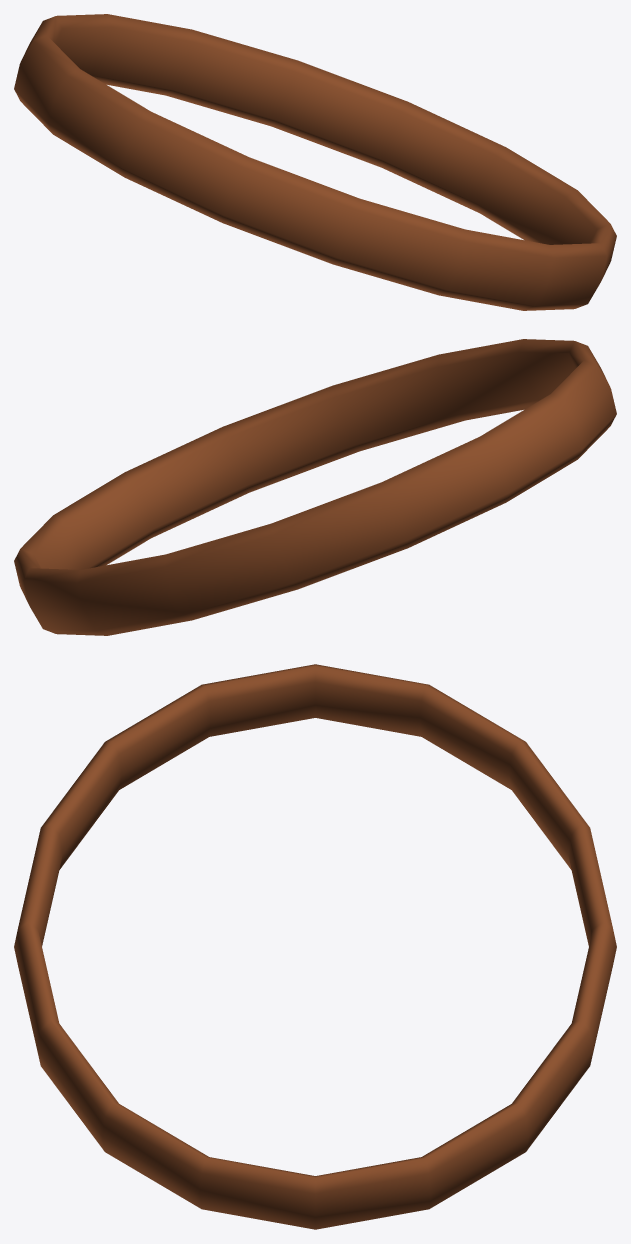
The model's file is Belt.fbx.
3 views of the same model, one above another, from view 1: azimuth 30°, elevation 25°; view 2: azimuth 150°, elevation 25°; view 3: azimuth 270°, elevation 25° (orthographic). The views are drawn at different scales.
Visible parts, largest first — view 1: Cylinder.006; view 2: Cylinder.006; view 3: Cylinder.006.
Part boxes in pixels (x1=…): Cylinder.006: x1=14, y1=14, x2=616, y2=310; Cylinder.006: x1=14, y1=339, x2=616, y2=635; Cylinder.006: x1=14, y1=664, x2=616, y2=1229.
Bounding box in the file's own units: 279 × 151 × 259.
